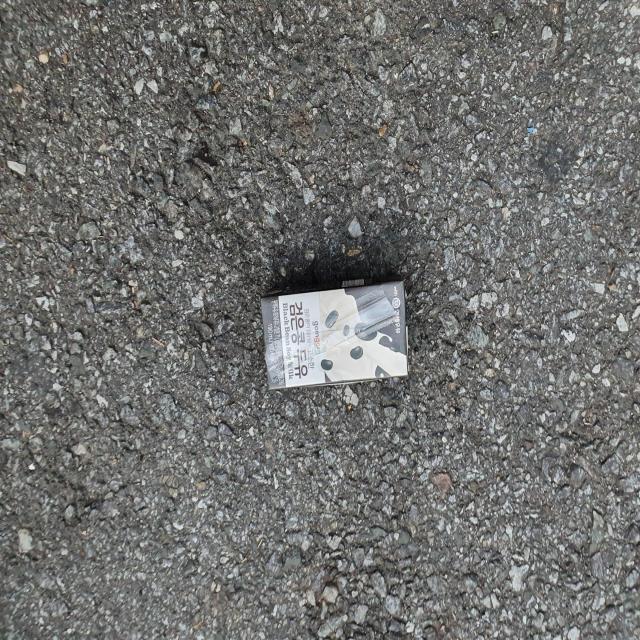paperpack: (262, 280, 408, 389)
